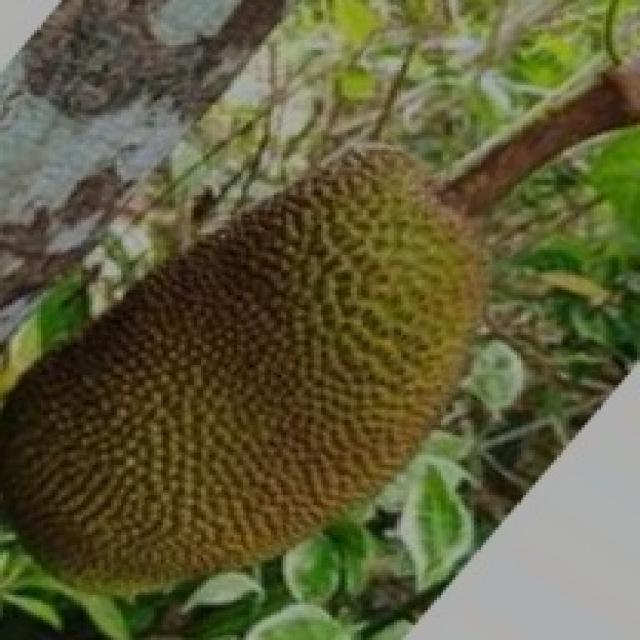Fruit: (135, 120, 536, 518), (0, 235, 394, 635)
